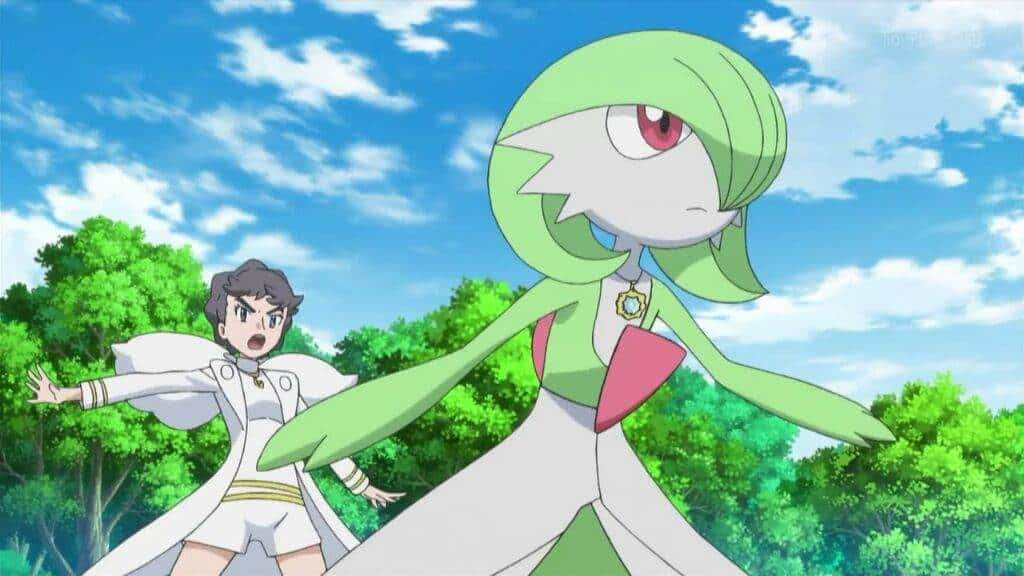gardevoir: (257, 28, 897, 571)
